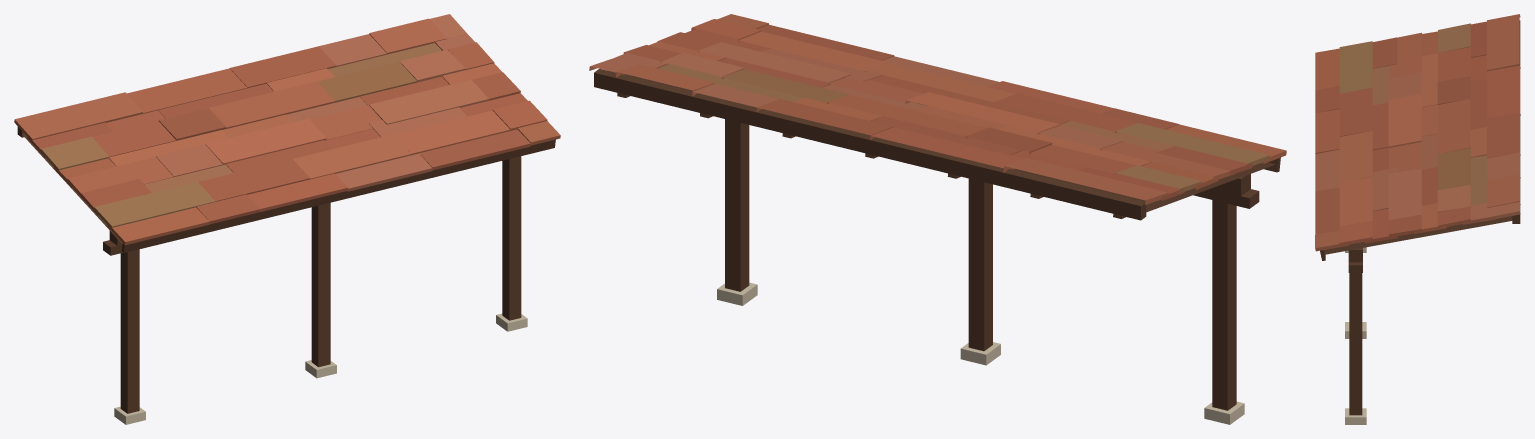
Rendered from tejado_soportal.glb.
3 renders of one model, left to right at view 1: azimuth 30°, elevation 25°; view 2: azimuth 150°, elevation 25°; view 3: azimuth 270°, elevation 25°, orthographic. The views are drawn at different scales.
Parts seen in each view (by area): view 1: tejado_soportal_fijo; view 2: tejado_soportal_fijo; view 3: tejado_soportal_fijo.
Part boxes in pixels (x1,y1,x2,y2): tejado_soportal_fijo: (14,14,560,424); tejado_soportal_fijo: (589,14,1286,424); tejado_soportal_fijo: (1315,14,1520,424).
Bounding box in the file's own units: 6.5 × 3.43 × 2.88.
